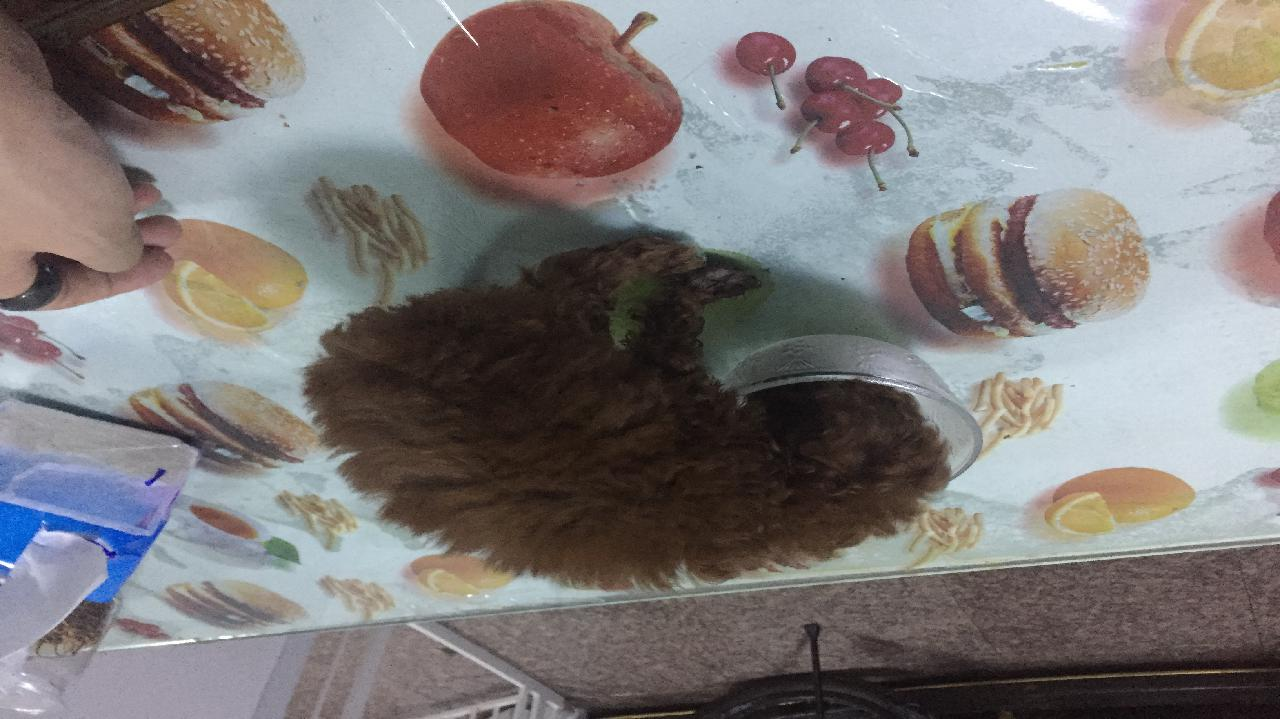coin: (281, 250, 969, 590)
